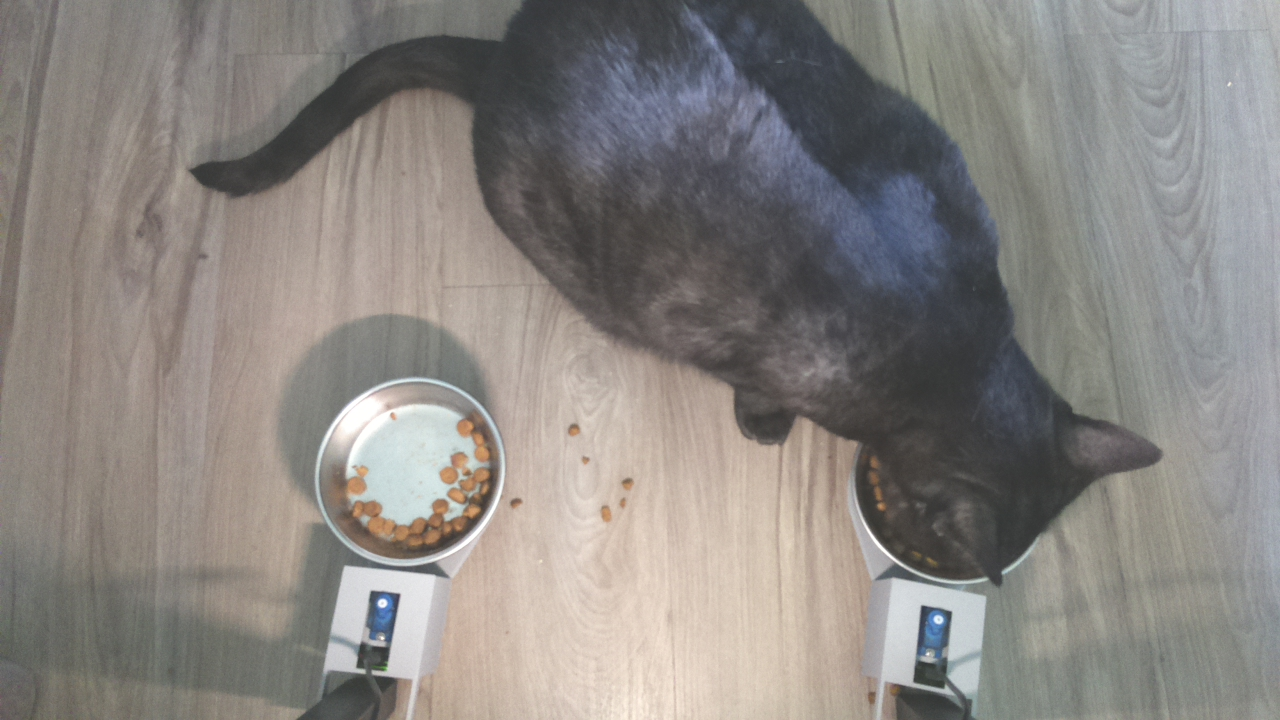open_bowl: (311, 373, 509, 572)
saki_eating: (821, 332, 1168, 592)
